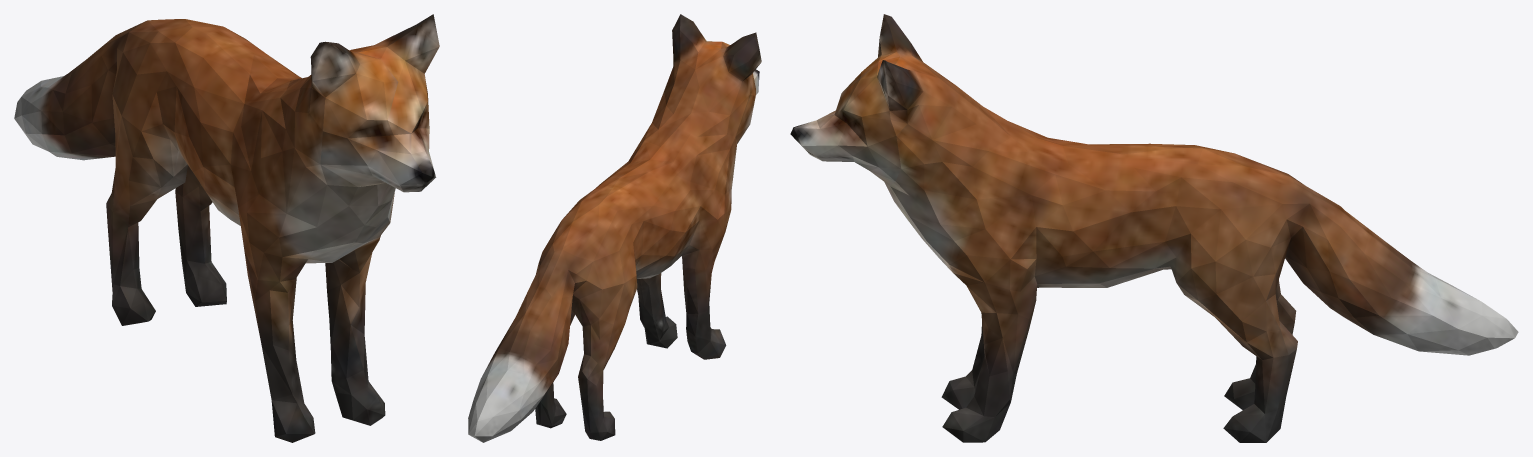
Rendered from r32_tier_fuchs.glb.
The picture shows the model from 3 angles, left to right: view 1: azimuth 30°, elevation 25°; view 2: azimuth 150°, elevation 25°; view 3: azimuth 270°, elevation 25°; orthographic projection. The views are drawn at different scales.
Parts seen in each view (by area): view 1: fuchs; view 2: fuchs; view 3: fuchs.
Boxes of the visible parts, x1,y1,x2,y2 form: fuchs: (14, 14, 439, 442); fuchs: (468, 14, 761, 442); fuchs: (790, 14, 1518, 442).
Size of the model in its own units: 0.3343 by 1 by 1.71.
1 material, 1 textured.
